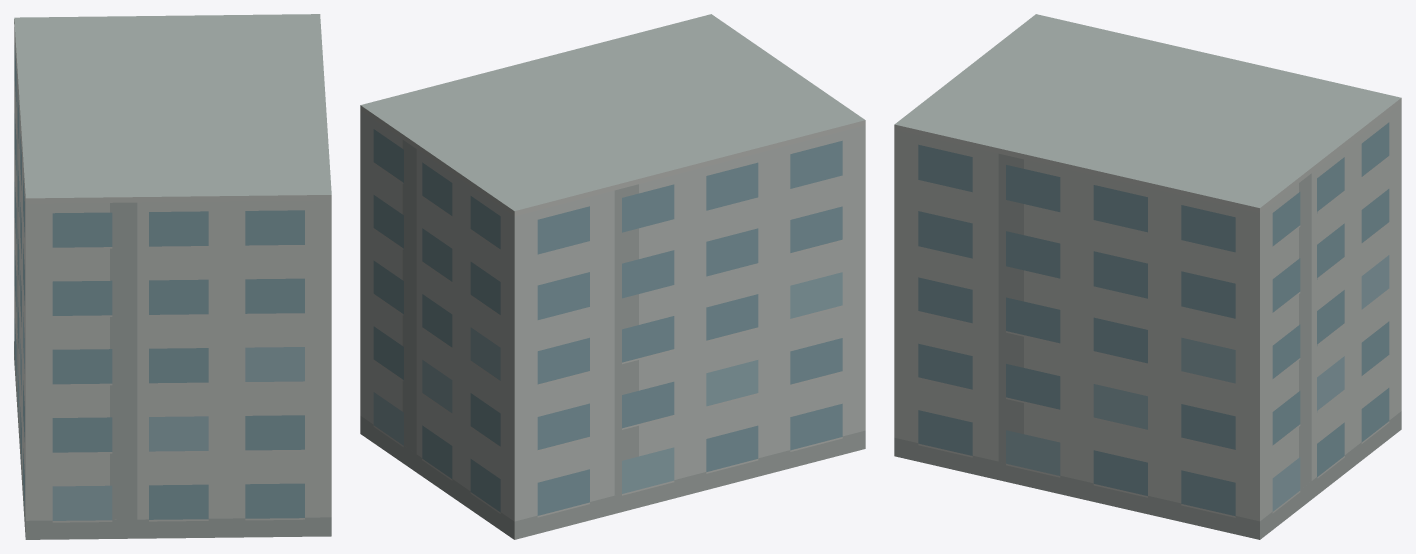
The model's file is residential-7704ce0d-a64a-473e-8f4b-e6a3a024f98a.glb.
3 views of the same model, side by side, from view 1: azimuth 30°, elevation 25°; view 2: azimuth 150°, elevation 25°; view 3: azimuth 270°, elevation 25° (orthographic). The views are drawn at different scales.
Visible parts, largest first — view 1: residential-7704ce0d-a64a-473e-8f4b-e6a3a024f98a.tmp; view 2: residential-7704ce0d-a64a-473e-8f4b-e6a3a024f98a.tmp; view 3: residential-7704ce0d-a64a-473e-8f4b-e6a3a024f98a.tmp.
Part boxes in pixels (<box>): residential-7704ce0d-a64a-473e-8f4b-e6a3a024f98a.tmp: <box>14,14,331,539</box>; residential-7704ce0d-a64a-473e-8f4b-e6a3a024f98a.tmp: <box>360,14,865,539</box>; residential-7704ce0d-a64a-473e-8f4b-e6a3a024f98a.tmp: <box>894,14,1401,539</box>.
Bounding box in the file's own units: 19.15 × 15.25 × 21.14.
